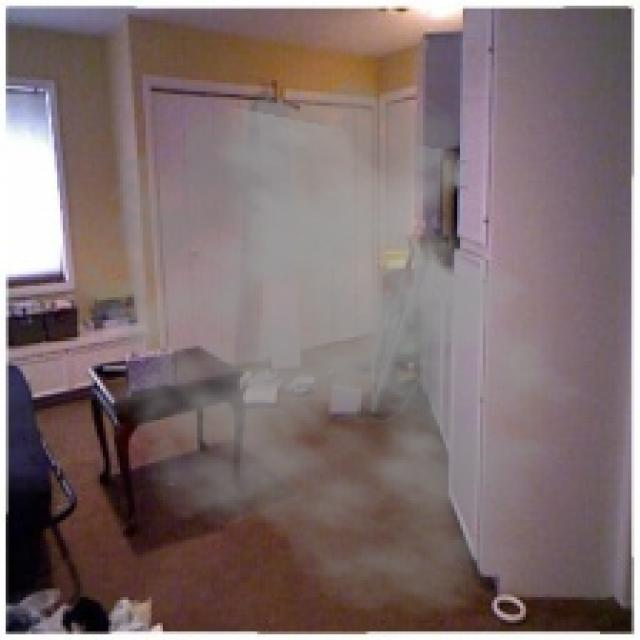smoke: (54, 69, 606, 620)
